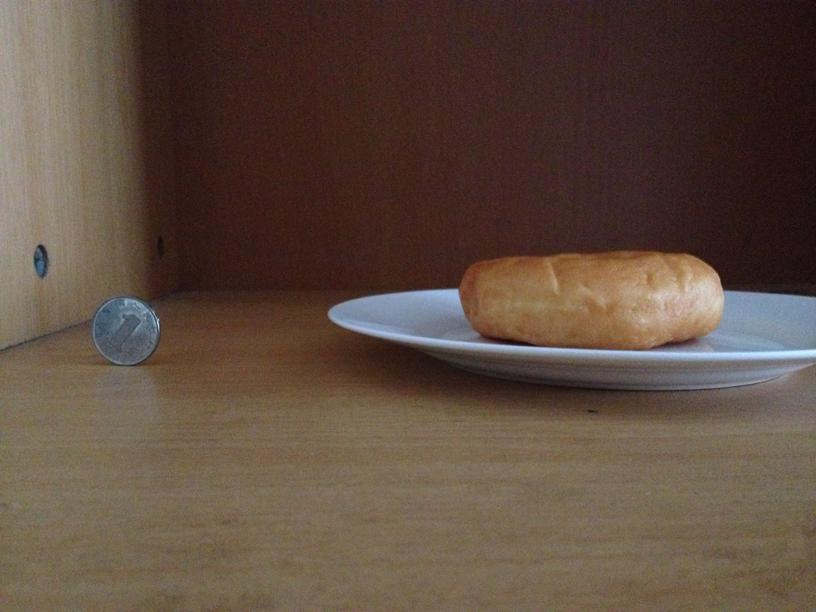coin: (88, 297, 160, 366)
doughnut: (460, 250, 724, 347)
